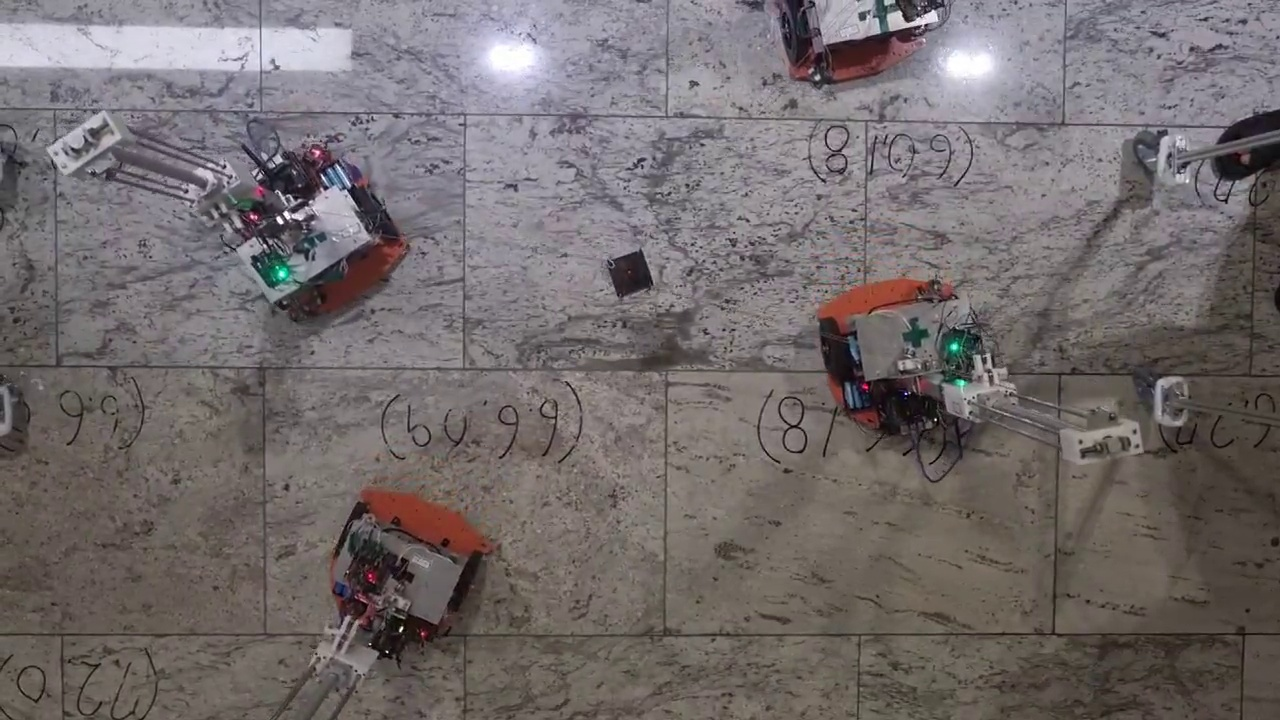e0: (607, 249, 654, 300)
r1: (819, 295, 975, 382)
r2: (782, 5, 926, 38)
r3: (258, 184, 400, 311)
r4: (334, 501, 484, 614)
y_+_axis_vector: (667, 371, 1061, 375)
y_-_axis_vector: (265, 368, 667, 371)
